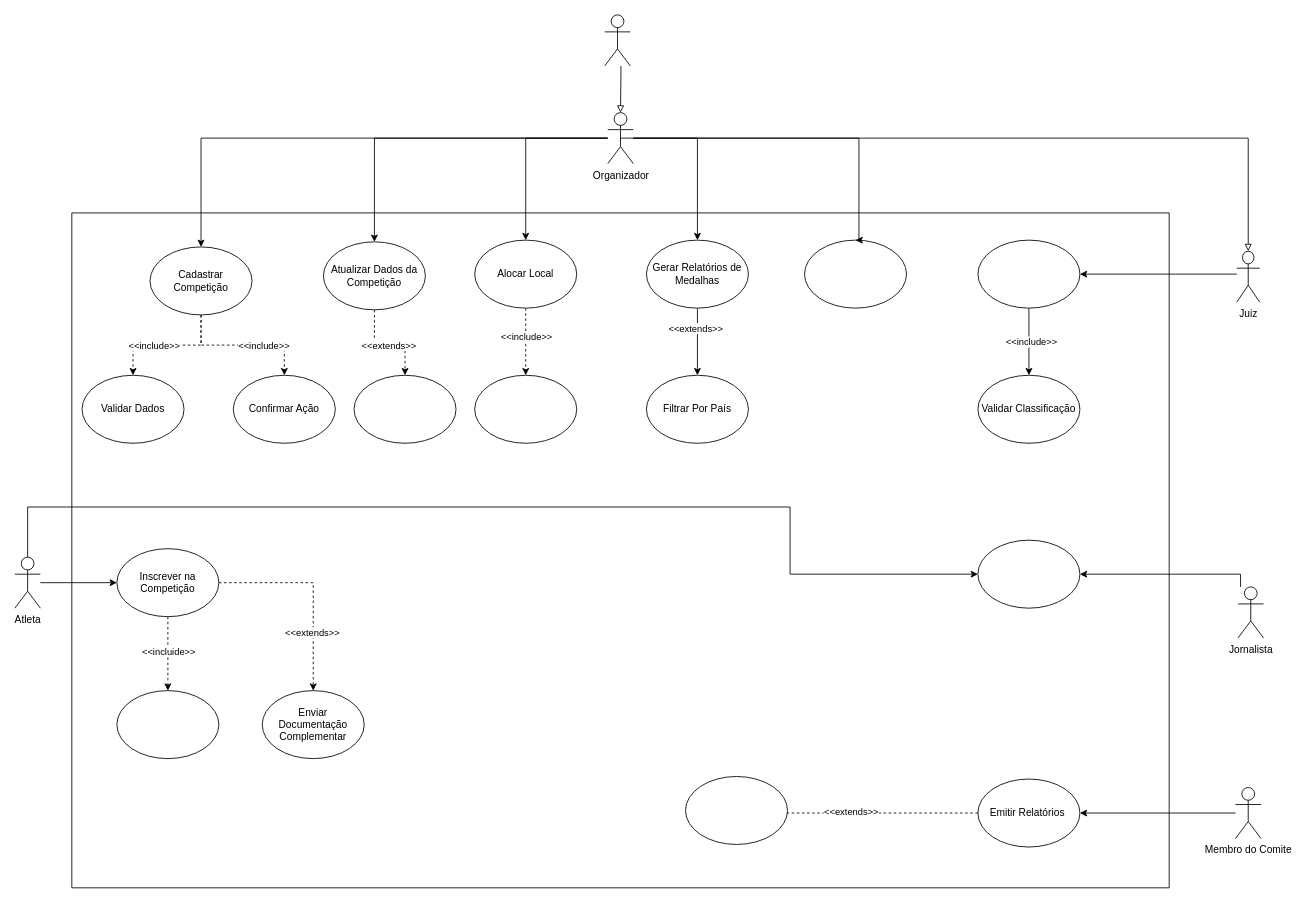
This 1306x903 diagram has some shape labels left out. Here are the shapes that lost their labels. From the top down, the centre of each, then its label:
At pixel 617 40: "Administrador".
At pixel 855 273: "Visualizar atletas cadastrados".
At pixel 1028 273: "Registrar Resultados".
At pixel 404 408: "Cancelar Competição".
At pixel 525 408: "Verificar Conflito de Local".
At pixel 1028 573: "Consultar Competições".
At pixel 167 724: "Verificar Modalidades da Competição".
At pixel 736 810: "Exportar Relatórios".
